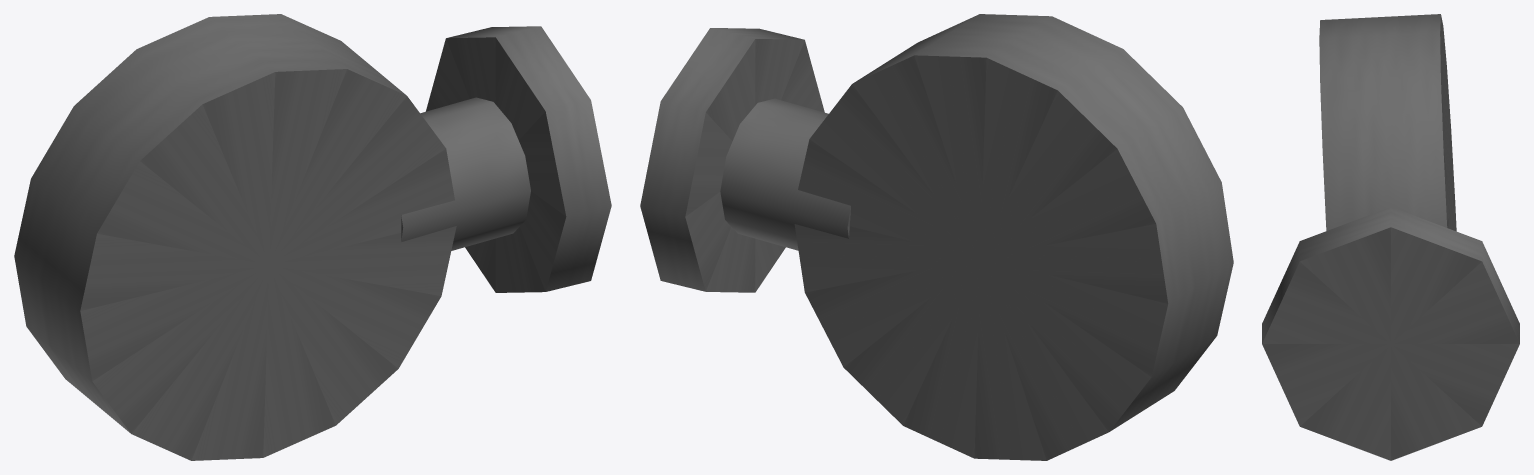
The model's file is mastarmcurve_6x2_c7_east.obj.
3 renders of one model, left to right at view 1: azimuth 30°, elevation 25°; view 2: azimuth 150°, elevation 25°; view 3: azimuth 270°, elevation 25°, orthographic. The views are drawn at different scales.
Visible parts, largest first — view 1: mastarm_6x2_c7_east; view 2: mastarm_6x2_c7_east; view 3: mastarm_6x2_c7_east.
Boxes of the visible parts, x1=… form: mastarm_6x2_c7_east: x1=14, y1=14, x2=611, y2=460; mastarm_6x2_c7_east: x1=640, y1=14, x2=1233, y2=460; mastarm_6x2_c7_east: x1=1262, y1=14, x2=1519, y2=460.
Size of the model in its own units: 0.8088 by 0.6282 by 0.4.
